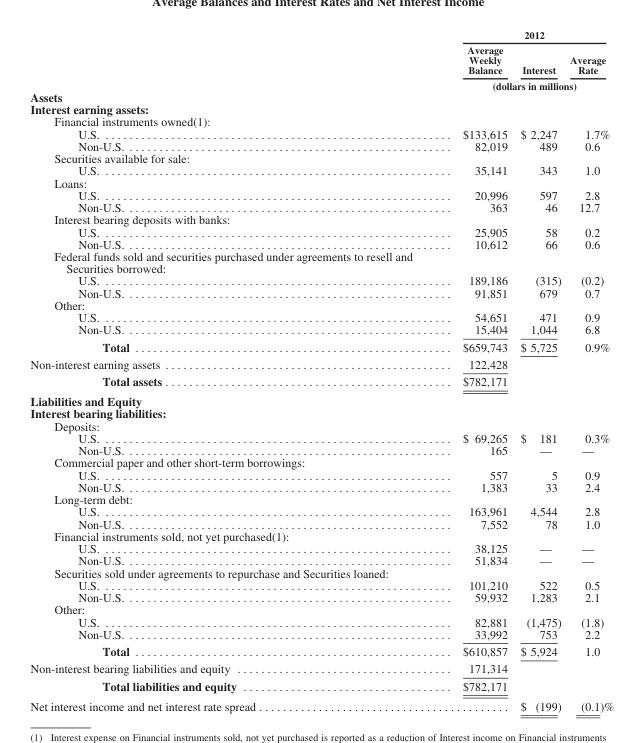table: (29, 28, 613, 712)
table column: (29, 28, 349, 712), (349, 28, 513, 712), (513, 28, 565, 712), (565, 28, 613, 712)
table column header: (29, 28, 613, 90)
table projected row header: (29, 249, 613, 274), (29, 391, 613, 407), (29, 102, 613, 115), (29, 151, 613, 164), (29, 298, 613, 311), (29, 492, 613, 505), (29, 90, 613, 102), (29, 115, 613, 127), (29, 176, 613, 188), (29, 213, 613, 225), (29, 407, 613, 419), (29, 419, 613, 431), (29, 456, 613, 468), (29, 529, 613, 541), (29, 566, 613, 578), (29, 603, 613, 615)
table row: (29, 42, 613, 77), (29, 249, 613, 274), (29, 372, 613, 391), (29, 676, 613, 695), (29, 337, 613, 355), (29, 355, 613, 372), (29, 642, 613, 659), (29, 659, 613, 676), (29, 695, 613, 712), (29, 391, 613, 407), (29, 627, 613, 642), (29, 28, 613, 42), (29, 323, 613, 337), (29, 77, 613, 90), (29, 102, 613, 115), (29, 151, 613, 164), (29, 200, 613, 213), (29, 298, 613, 311), (29, 443, 613, 456), (29, 492, 613, 505), (29, 541, 613, 554), (29, 590, 613, 603), (29, 90, 613, 102), (29, 115, 613, 127), (29, 127, 613, 139), (29, 139, 613, 151), (29, 164, 613, 176), (29, 176, 613, 188), (29, 188, 613, 200), (29, 213, 613, 225), (29, 225, 613, 237), (29, 237, 613, 249), (29, 274, 613, 286), (29, 286, 613, 298), (29, 311, 613, 323), (29, 407, 613, 419), (29, 419, 613, 431), (29, 431, 613, 443), (29, 456, 613, 468), (29, 468, 613, 480), (29, 480, 613, 492), (29, 505, 613, 517), (29, 517, 613, 529), (29, 529, 613, 541), (29, 554, 613, 566), (29, 566, 613, 578), (29, 578, 613, 590), (29, 603, 613, 615), (29, 615, 613, 627)
table spanning cell: (29, 695, 513, 712), (349, 28, 613, 42), (349, 77, 613, 90)
